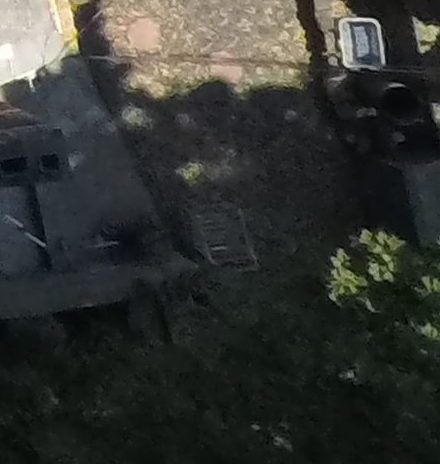container: (334, 14, 394, 74), (36, 147, 69, 174), (1, 149, 29, 180)
